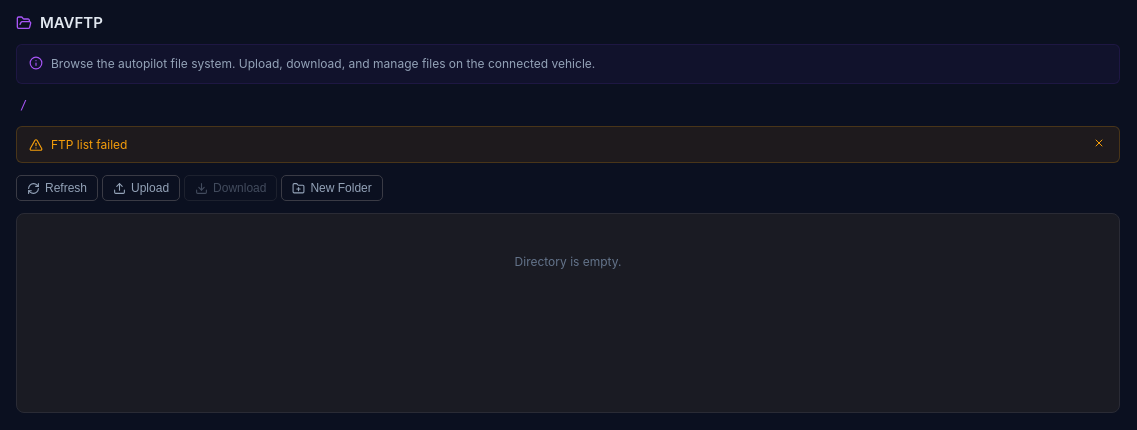
Scenario: MavFtp › shows error and dismisses it
Expected: the element with test id "ftp-error" is shown, [16,126,1120,163]
Click the button with test id "ftp-error-close" at (1099,144), box [1091,135,1107,154]
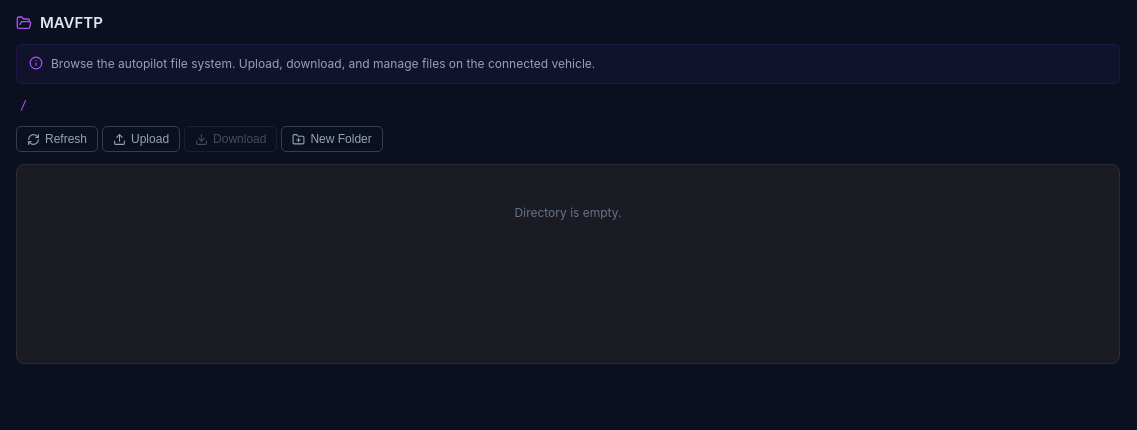
Expected: the element with test id "ftp-error" is gone
